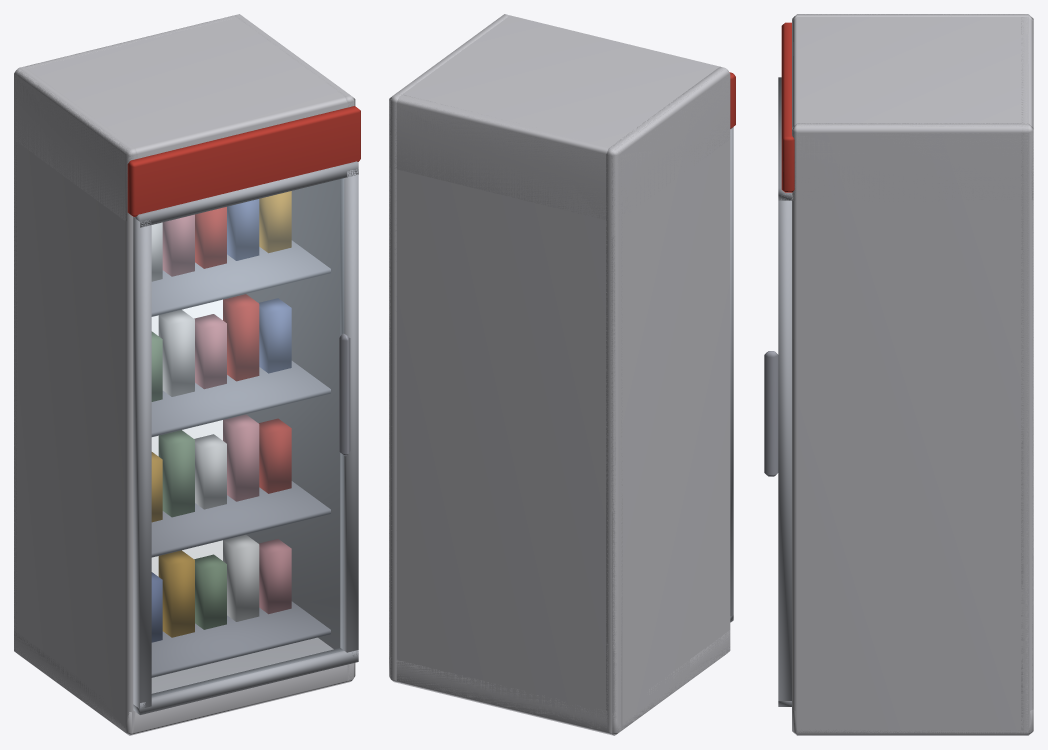
The model's file is fridge_cabinet.glb.
3 views of the same model, side by side, from view 1: azimuth 30°, elevation 25°; view 2: azimuth 150°, elevation 25°; view 3: azimuth 270°, elevation 25° (orthographic). The views are drawn at different scales.
Parts seen in each view (by area): view 1: fridge_cabinet, door; view 2: fridge_cabinet, door; view 3: fridge_cabinet, door.
Boxes of the visible parts, <box> form: fridge_cabinet: <box>14,14,360,735</box>; door: <box>133,161,358,714</box>; fridge_cabinet: <box>389,14,735,735</box>; door: <box>730,127,733,622</box>; fridge_cabinet: <box>781,14,1033,735</box>; door: <box>764,77,791,706</box>.
Size of the model in its own units: 0.8 by 1.95 by 0.78.
